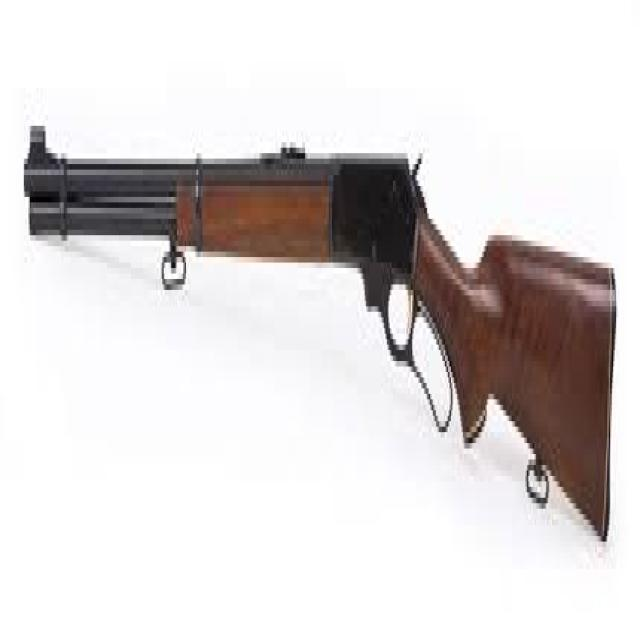rifle: (22, 105, 620, 580)
